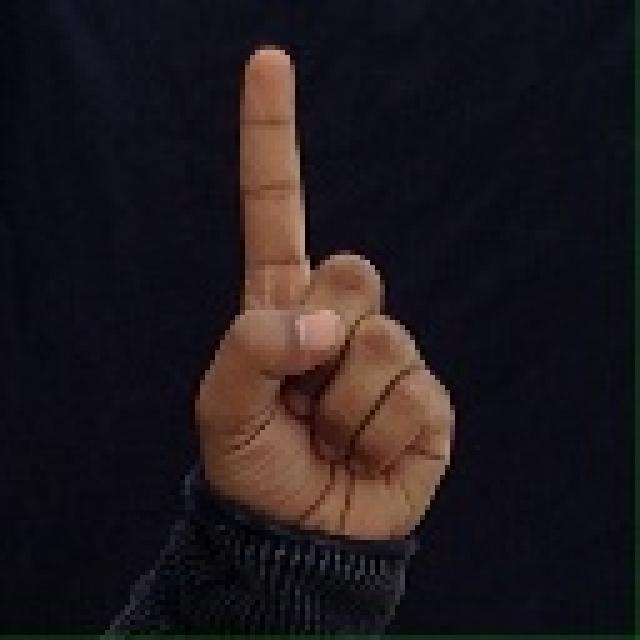Numeric-1: (200, 47, 450, 583)
